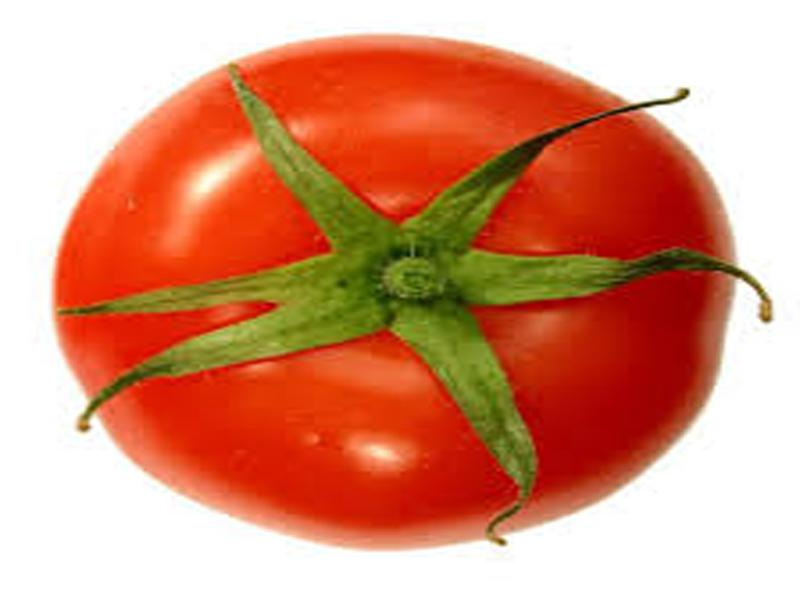Tomato: (49, 35, 735, 546)
